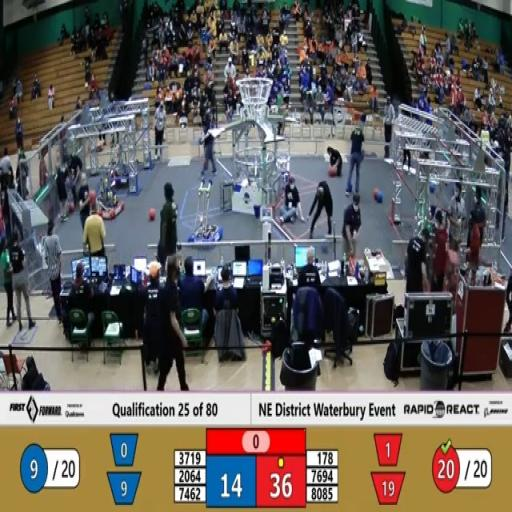robot: (180, 173, 224, 256), (102, 128, 136, 190), (90, 174, 129, 226), (270, 144, 298, 192)
